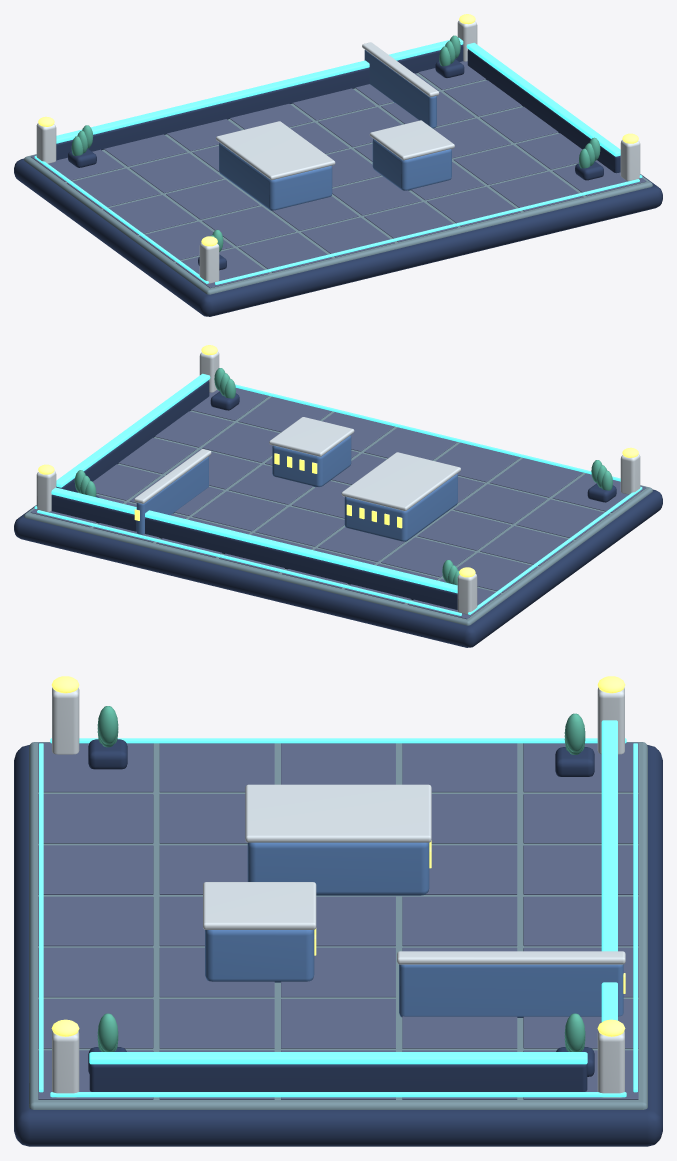
File: citadel.glb
3 views of the same model, one above another, from view 1: azimuth 30°, elevation 25°; view 2: azimuth 150°, elevation 25°; view 3: azimuth 270°, elevation 25° (orthographic). The views are drawn at different scales.
Parts seen in each view (by area): view 1: Floating foundation, Arena floor, Reflector base, Cover cap, Cover, Reflector beam, Cover.001, Reflector base.001, Cover.002, Floor panel.007, Floor panel.006, Floor panel.028 (+37 smaller); view 2: Floating foundation, Arena floor, Reflector base, Cover cap, Reflector beam, Cover, Cover.001, Reflector base.001, Floor panel.007, Floor panel.021, Floor panel.008, Floor panel.016 (+37 smaller); view 3: Floating foundation, Arena floor, Reflector base.001, Cover.002, Cover cap, Cover, Reflector beam.001, Floor panel.016, Floor panel.028, Floor panel.027, Floor panel.019, Floor panel.024 (+38 smaller).
Part boxes in pixels (x1,y1,x2,y2): Floating foundation: [14, 158, 662, 316]; Arena floor: [24, 73, 652, 294]; Reflector base: [56, 44, 463, 160]; Cover cap: [216, 121, 335, 180]; Cover: [219, 142, 332, 210]; Reflector beam: [56, 37, 463, 143]; Cover.001: [372, 139, 451, 190]; Reflector base.001: [467, 49, 620, 173]; Cover.002: [364, 50, 436, 128]; Floor panel.007: [166, 179, 259, 219]; Floor panel.006: [130, 153, 223, 193]; Floor panel.028: [453, 145, 547, 184]; Floating foundation: [14, 489, 662, 647]; Arena floor: [24, 396, 652, 625]; Reflector base: [51, 494, 457, 609]; Cover cap: [341, 452, 460, 511]; Reflector beam: [51, 487, 457, 593]; Cover: [344, 473, 457, 541]; Cover.001: [272, 435, 351, 487]; Reflector base.001: [56, 380, 209, 492]; Floor panel.007: [417, 510, 510, 550]; Floor panel.021: [192, 491, 285, 531]; Floor panel.008: [453, 484, 546, 524]; Floor panel.016: [255, 506, 344, 546]; Floating foundation: [14, 745, 662, 1146]; Arena floor: [29, 742, 647, 1109]; Reflector base.001: [89, 1064, 587, 1091]; Cover.002: [399, 964, 623, 1017]; Cover cap: [245, 784, 431, 842]; Cover: [247, 842, 429, 895]; Reflector beam.001: [89, 1052, 587, 1064]; Floor panel.016: [402, 896, 517, 946]; Floor panel.028: [159, 999, 274, 1048]; Floor panel.027: [281, 999, 395, 1048]; Floor panel.019: [38, 896, 153, 946]; Floor panel.024: [38, 947, 153, 997].
Bounding box in the file's own units: 14.7 × 2.06 × 10.7.
